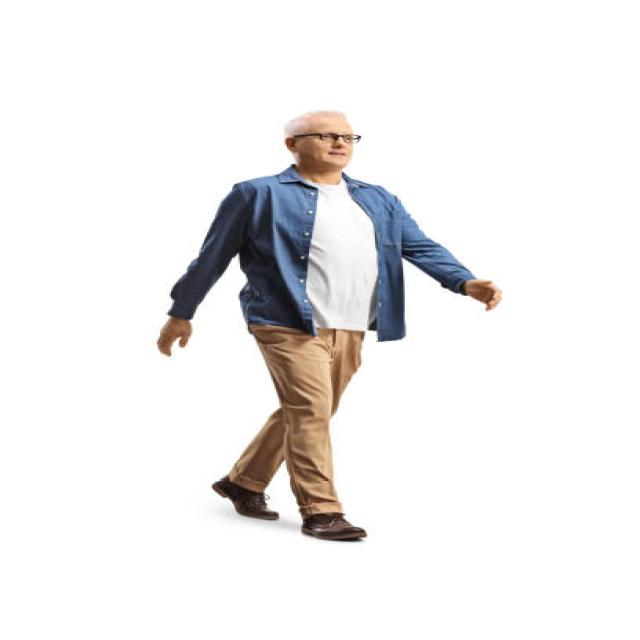Person: (155, 111, 500, 540)
